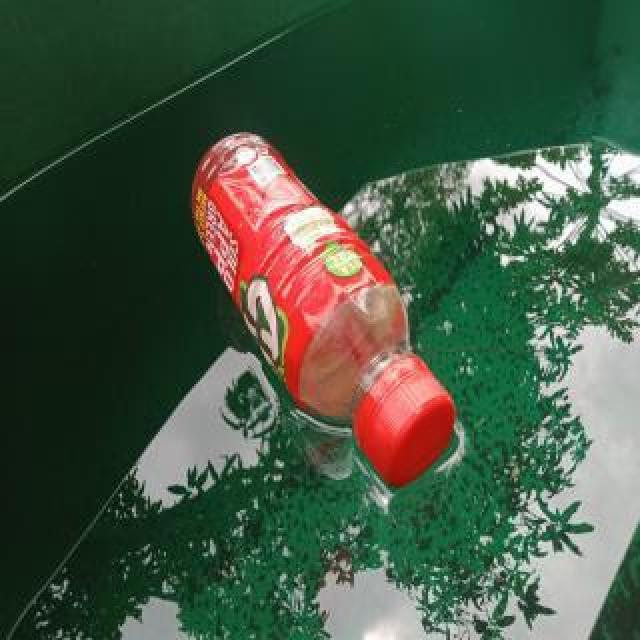bottle: (189, 128, 461, 492)
